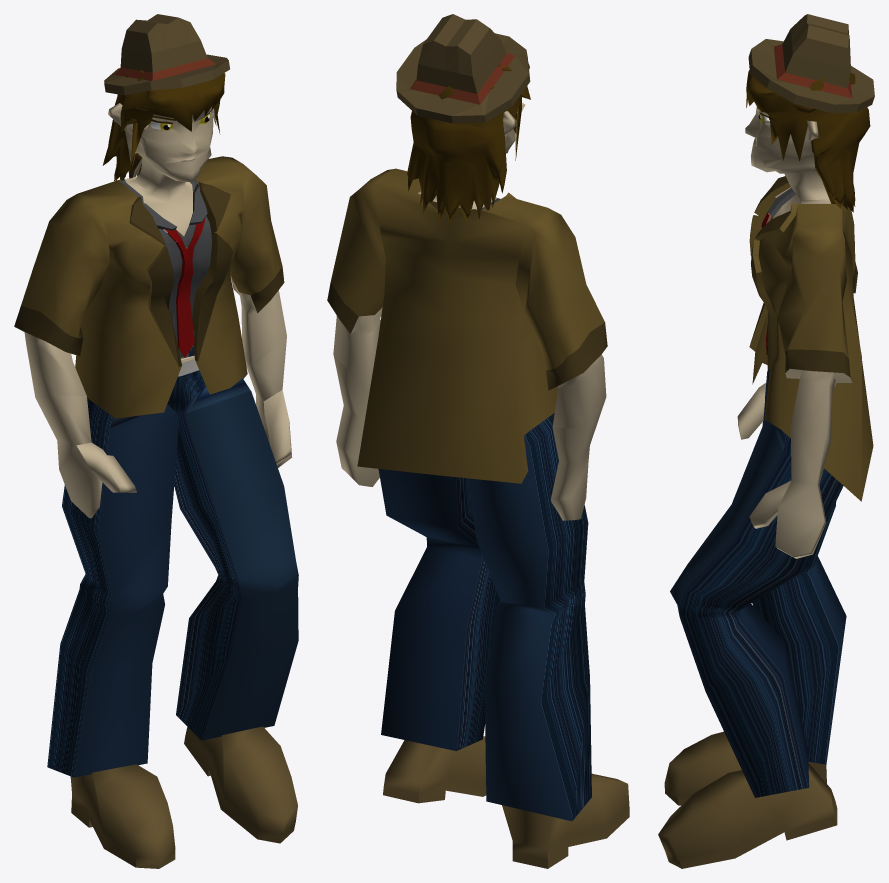
File: Yudha.fbx
3 renders of one model, left to right at view 1: azimuth 30°, elevation 25°; view 2: azimuth 150°, elevation 25°; view 3: azimuth 270°, elevation 25°, orthographic. The views are drawn at different scales.
Parts seen in each view (by area): view 1: pasted__group7_pasted__pCube2, pasted__pasted__pCube3; view 2: pasted__group7_pasted__pCube2, pasted__pasted__pCube3; view 3: pasted__group7_pasted__pCube2, pasted__pasted__pCube3.
Part boxes in pixels (x1,y1,x2,y2): pasted__group7_pasted__pCube2: [14, 70, 298, 868]; pasted__pasted__pCube3: [104, 14, 229, 95]; pasted__group7_pasted__pCube2: [327, 63, 629, 868]; pasted__pasted__pCube3: [396, 14, 530, 123]; pasted__group7_pasted__pCube2: [658, 70, 873, 868]; pasted__pasted__pCube3: [748, 14, 874, 112].
Bounding box in the file's own units: 3.81 × 11.5 × 2.76.
15 materials, 1 textured.
